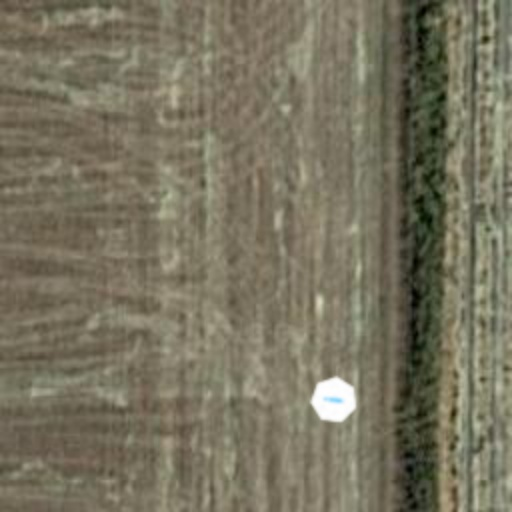heptagon: (306, 372, 362, 428)
